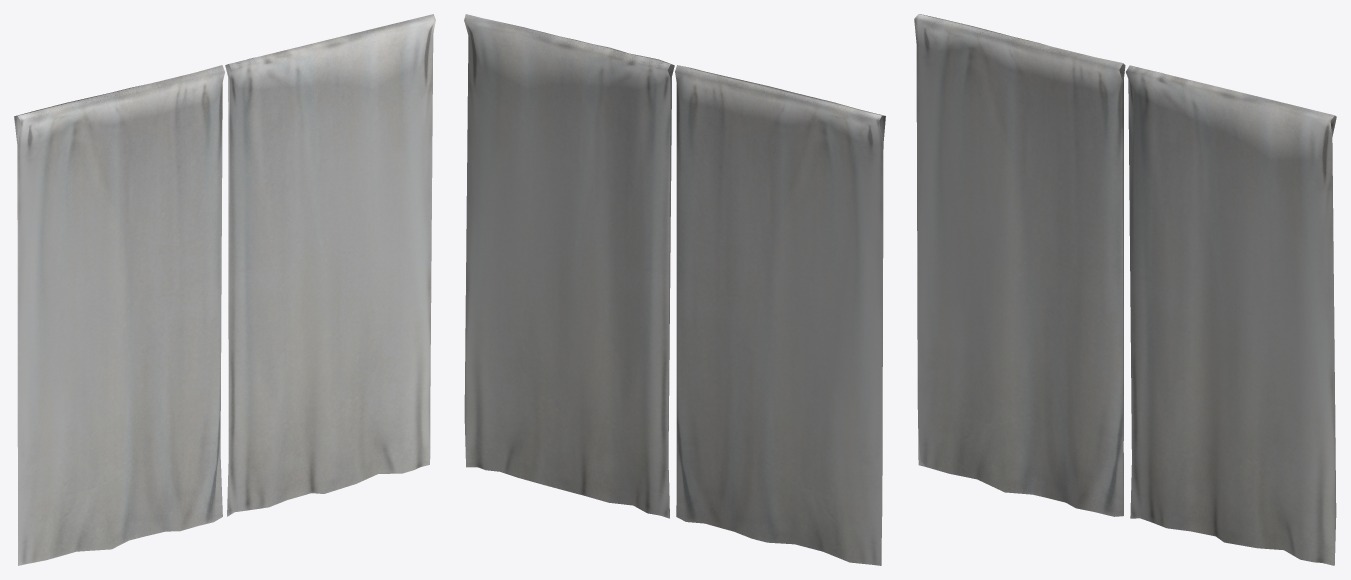
The model's file is drapes_waitroom_cloth.dae.
The picture shows the model from 3 angles, left to right: view 1: azimuth 30°, elevation 25°; view 2: azimuth 150°, elevation 25°; view 3: azimuth 330°, elevation 25°; orthographic projection.
Visible parts, largest first — view 1: drapes_waitroom_cloth; view 2: drapes_waitroom_cloth; view 3: drapes_waitroom_cloth.
Boxes of the visible parts, bbox=[...] form: drapes_waitroom_cloth: bbox=[14, 14, 435, 565]; drapes_waitroom_cloth: bbox=[464, 14, 885, 565]; drapes_waitroom_cloth: bbox=[914, 14, 1336, 565].
Bounding box in the file's own units: 2.22 × 2.31 × 0.0763.
